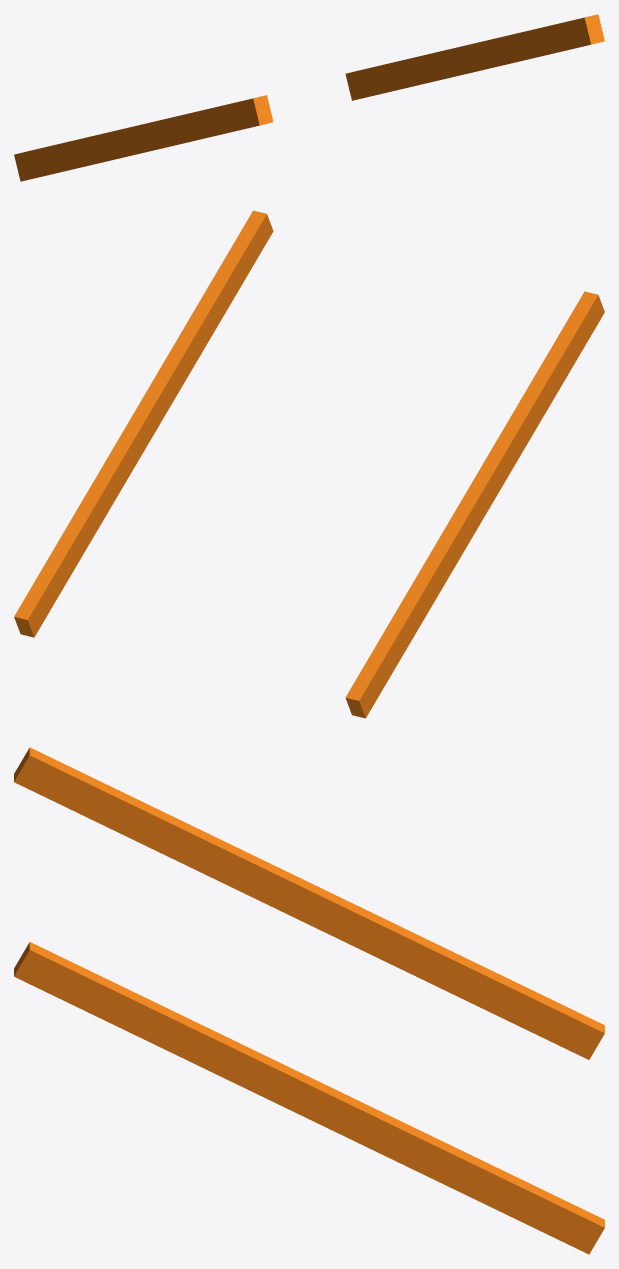
File: PRP_RampRails.fbx
3 views of the same model, one above another, from view 1: azimuth 30°, elevation 25°; view 2: azimuth 150°, elevation 25°; view 3: azimuth 270°, elevation 25° (orthographic). The views are drawn at different scales.
Parts seen in each view (by area): view 1: PRP_RampRails; view 2: PRP_RampRails; view 3: PRP_RampRails.
Boxes of the visible parts, x1=… form: PRP_RampRails: x1=14, y1=14, x2=604, y2=181; PRP_RampRails: x1=14, y1=210, x2=604, y2=718; PRP_RampRails: x1=14, y1=747, x2=604, y2=1254.
Bounding box in the file's own units: 5 × 3.51 × 6.16.
